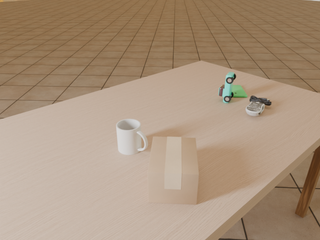box: (148, 137, 199, 204)
cup: (116, 119, 148, 155)
mouse: (246, 101, 265, 116)
phone: (232, 85, 247, 97)
toy_car: (219, 72, 236, 103)
